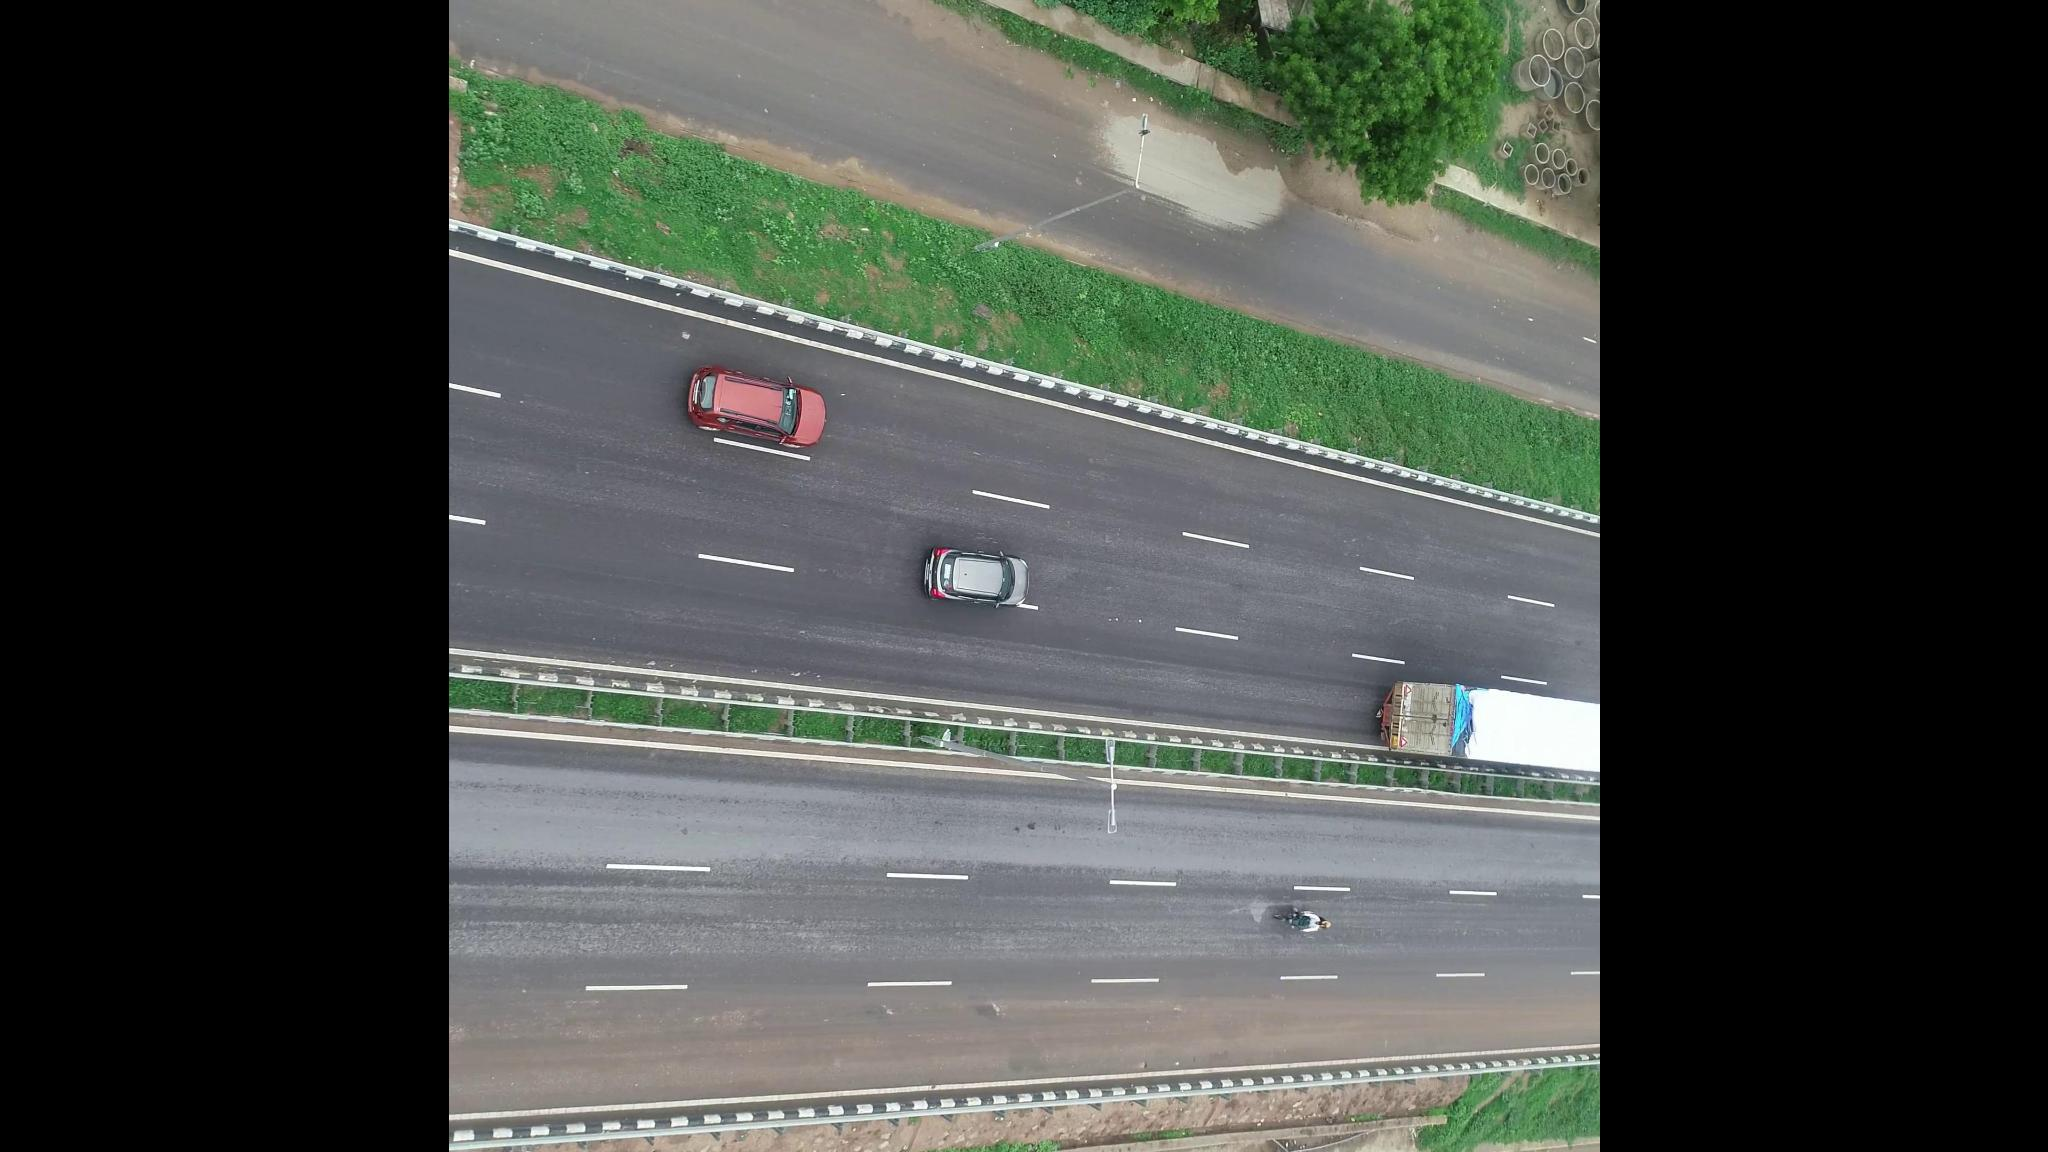Muddy_road: (478, 994, 895, 1094), (934, 987, 1333, 1073), (1373, 983, 1595, 1056)
